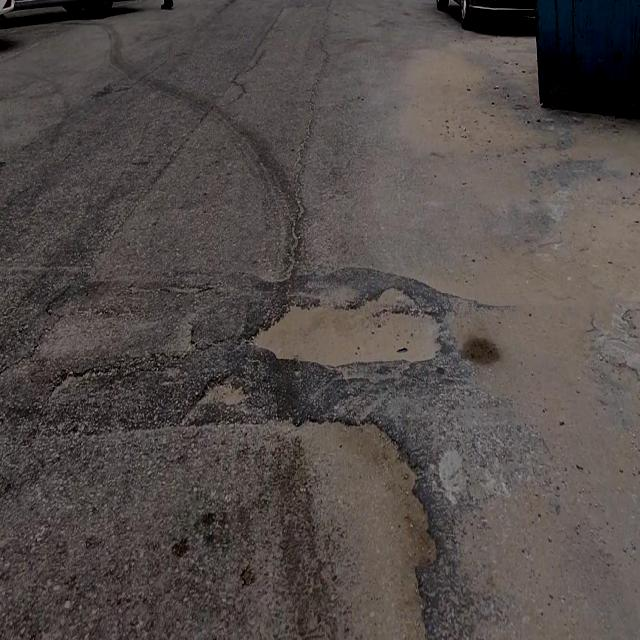Potholes: (281, 408, 439, 640), (245, 283, 441, 372)
